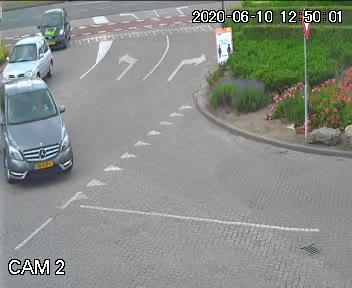car: (0, 82, 87, 184), (2, 33, 50, 88), (39, 2, 75, 53)
